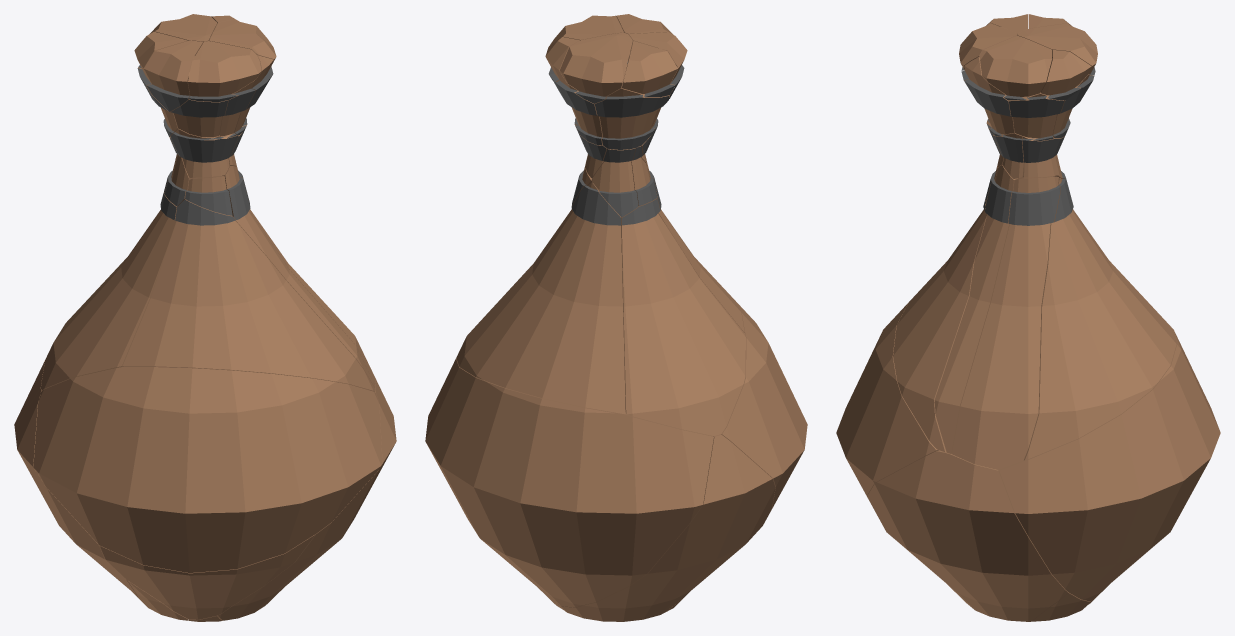
File: Pottery1_Shattered.fbx
The picture shows the model from 3 angles, left to right: view 1: azimuth 30°, elevation 25°; view 2: azimuth 150°, elevation 25°; view 3: azimuth 270°, elevation 25°; orthographic projection.
Visible parts, largest first — view 1: Pottery1_cell.028, Pottery1_cell.009, Pottery1_cell, Pottery1_cell.021, Pottery1_cell.023, Pottery1_cell.020, Pottery1_cell.026, Pottery1_cell.011, Pottery1_cell.032, Pottery1_cell.030, Pottery1_cell.031, Pottery1_cell.010 (+8 smaller); view 2: Pottery1_cell.003, Pottery1_cell.015, Pottery1_cell, Pottery1_cell.011, Pottery1_cell.028, Pottery1_cell.018, Pottery1_cell.017, Pottery1_cell.001, Pottery1_cell.025, Pottery1_cell.009, Pottery1_cell.006, Pottery1_cell.010 (+5 smaller); view 3: Pottery1_cell.003, Pottery1_cell.015, Pottery1_cell.023, Pottery1_cell.012, Pottery1_cell.009, Pottery1_cell.028, Pottery1_cell.026, Pottery1_cell.010, Pottery1_cell.014, Pottery1_cell.005, Pottery1_cell.018, Pottery1_cell.002 (+5 smaller).
Part boxes in pixels (bbox=[...]): Pottery1_cell.028: bbox=[33, 367, 382, 572]; Pottery1_cell.009: bbox=[122, 199, 375, 391]; Pottery1_cell: bbox=[41, 192, 176, 390]; Pottery1_cell.021: bbox=[100, 534, 315, 619]; Pottery1_cell.023: bbox=[218, 379, 396, 620]; Pottery1_cell.020: bbox=[188, 41, 261, 101]; Pottery1_cell.026: bbox=[222, 166, 375, 387]; Pottery1_cell.011: bbox=[15, 388, 137, 597]; Pottery1_cell.032: bbox=[144, 40, 202, 111]; Pottery1_cell.030: bbox=[170, 128, 238, 177]; Pottery1_cell.031: bbox=[170, 92, 228, 137]; Pottery1_cell.010: bbox=[209, 19, 276, 66]; Pottery1_cell.003: bbox=[425, 358, 713, 607]; Pottery1_cell.015: bbox=[456, 182, 625, 414]; Pottery1_cell: bbox=[621, 198, 745, 436]; Pottery1_cell.011: bbox=[557, 434, 775, 621]; Pottery1_cell.028: bbox=[622, 295, 807, 508]; Pottery1_cell.018: bbox=[559, 32, 632, 103]; Pottery1_cell.017: bbox=[594, 64, 669, 149]; Pottery1_cell.001: bbox=[622, 41, 677, 97]; Pottery1_cell.025: bbox=[591, 148, 638, 217]; Pottery1_cell.009: bbox=[621, 185, 744, 332]; Pottery1_cell.006: bbox=[553, 79, 602, 145]; Pottery1_cell.010: bbox=[550, 15, 623, 45]; Pottery1_cell.003: bbox=[999, 327, 1220, 601]; Pottery1_cell.015: bbox=[1024, 177, 1176, 460]; Pottery1_cell.023: bbox=[867, 450, 1068, 621]; Pottery1_cell.012: bbox=[952, 176, 1060, 469]; Pottery1_cell.009: bbox=[893, 200, 987, 452]; Pottery1_cell.028: bbox=[836, 302, 938, 495]; Pottery1_cell.026: bbox=[934, 165, 1018, 453]; Pottery1_cell.010: bbox=[979, 35, 1052, 100]; Pottery1_cell.014: bbox=[1009, 92, 1064, 140]; Pottery1_cell.005: bbox=[964, 57, 1014, 136]; Pottery1_cell.018: bbox=[1017, 23, 1097, 75]; Pottery1_cell.002: bbox=[1041, 50, 1091, 100].
Size of the model in its own units: 123 by 199 by 124.
